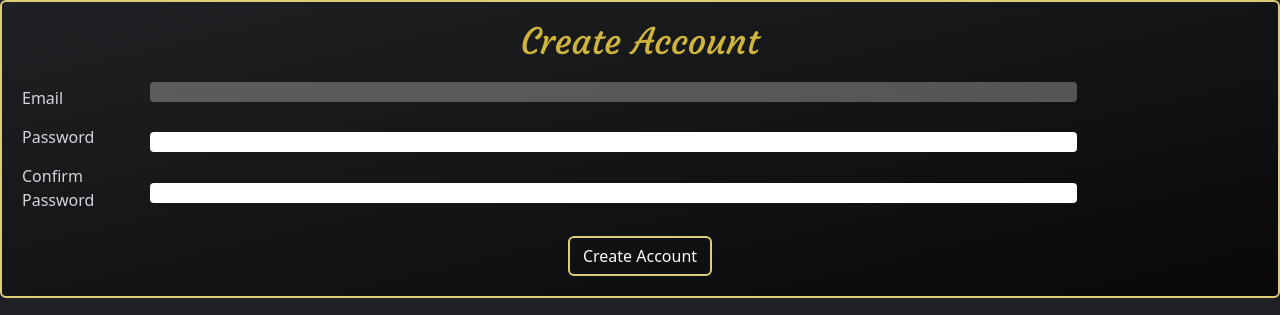
Create Account Form › should render correct error messages when password is too short
The image size is (1280, 315).
In the field labelled "Password": (614, 142) [150,132,1077,152], type "abc"
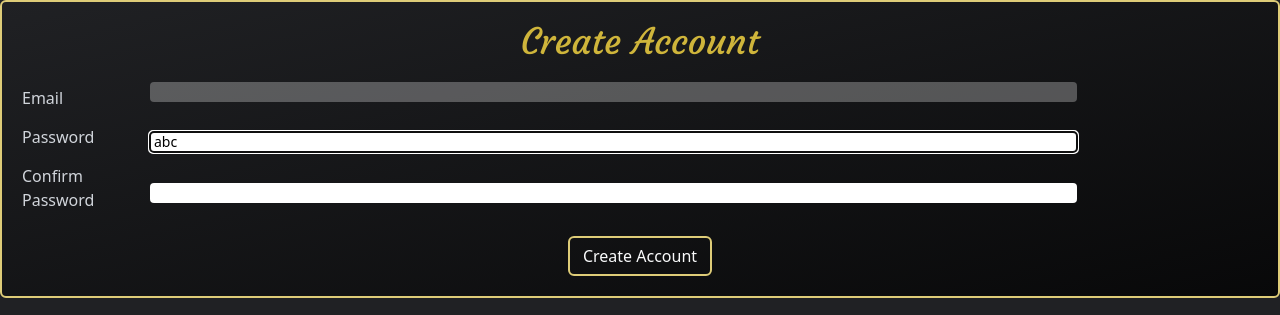
Click the button "Create Account": click(640, 256) [568,236,712,276]
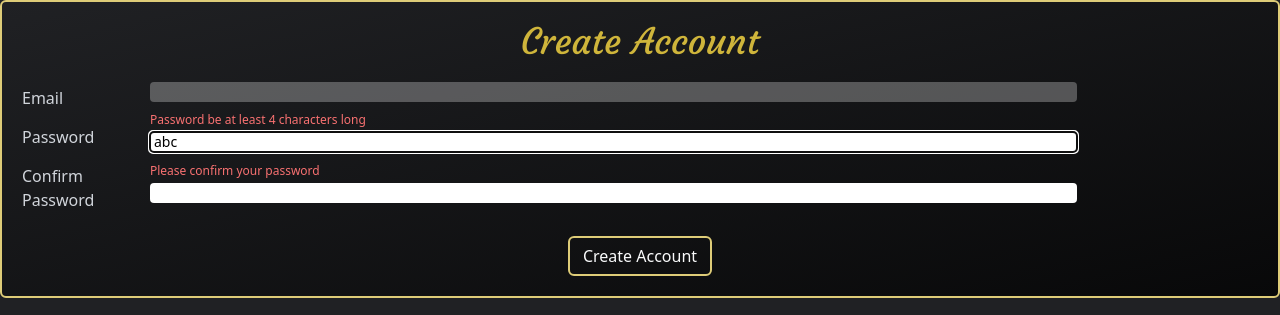
Check: the text "Password be at least 4 characters long" is shown, box [150,111,366,128]
